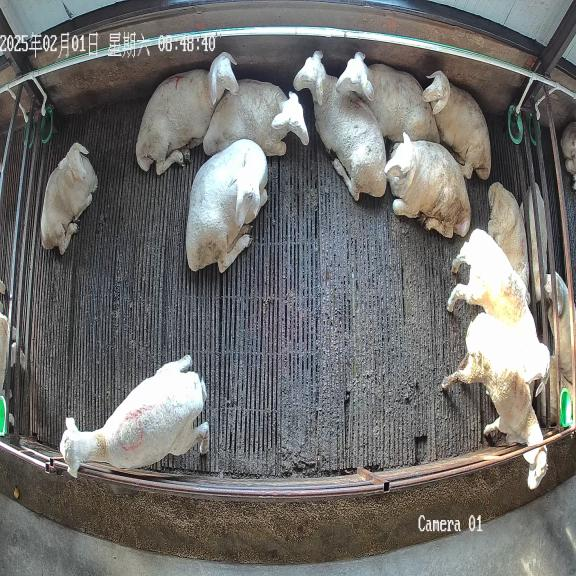lying: (293, 51, 386, 200), (136, 52, 239, 175), (186, 139, 268, 272), (335, 52, 440, 143), (385, 133, 470, 238), (203, 79, 309, 156), (423, 70, 491, 180), (41, 143, 98, 255), (488, 182, 529, 287)
stand: (442, 313, 548, 489), (60, 355, 209, 478), (447, 229, 550, 396)
